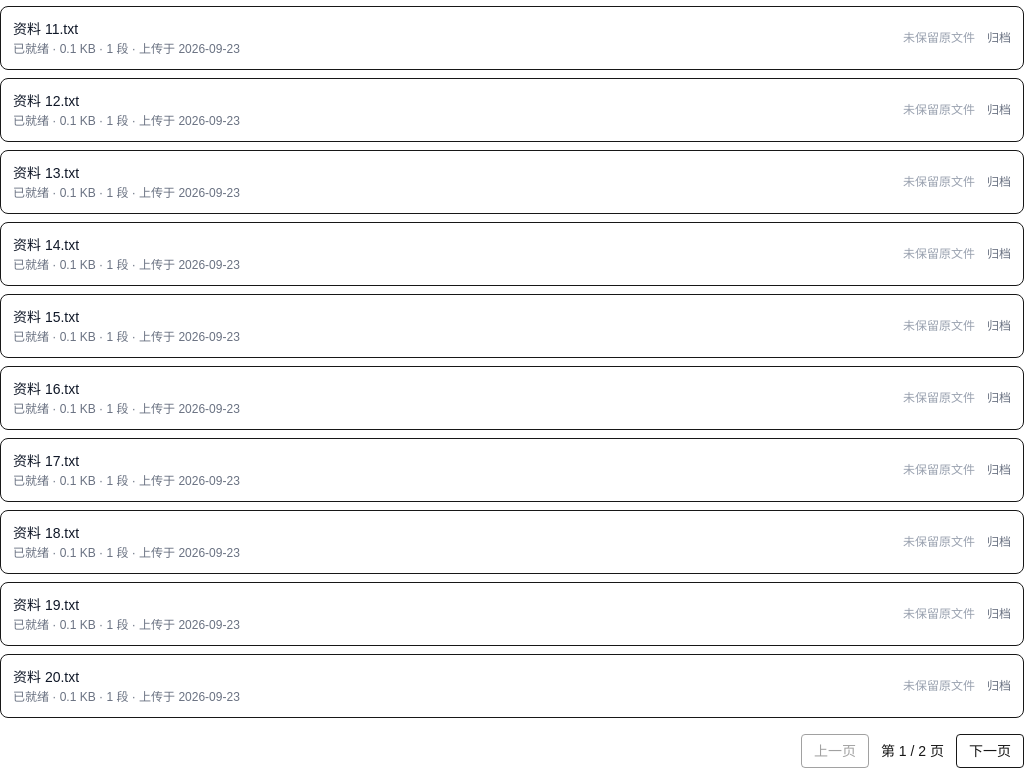
Scenario: 知识库列表 › 超过一页时可以翻页
(page scrolled)
Expected: the text "资料 21.txt" is not shown
Click the button "下一页": (990, 751) [956, 734, 1024, 767]
(page scrolled)
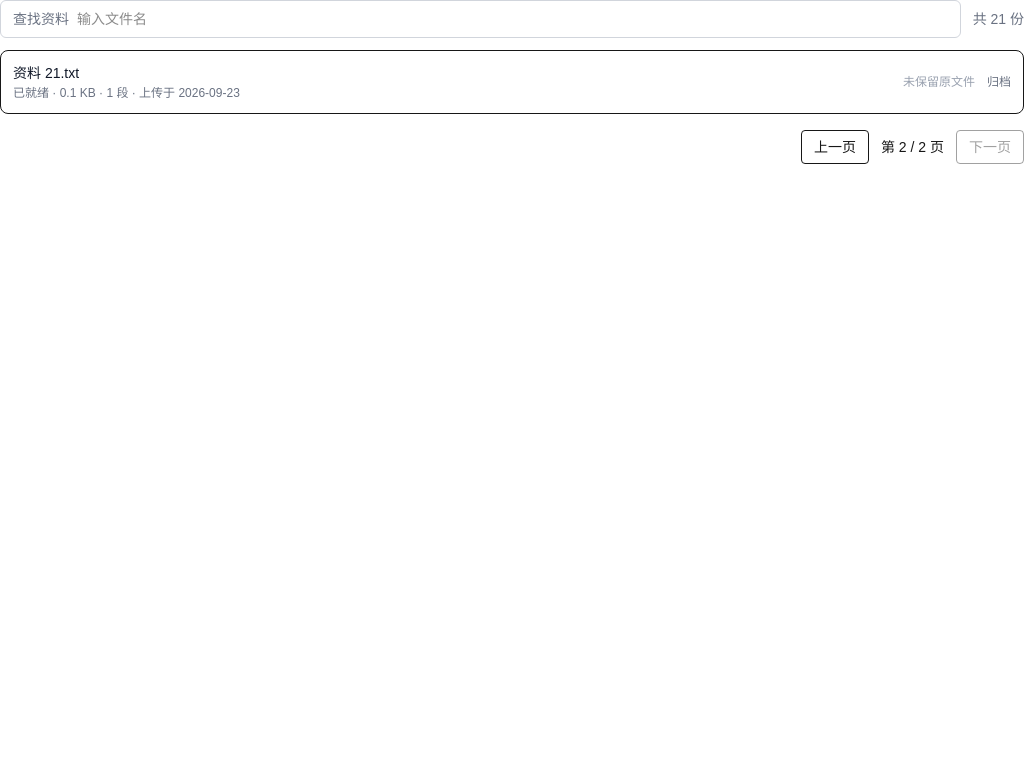
Expected: the text "资料 21.txt" is shown, [13, 65, 79, 81]
Expected: the text "第 2 / 2 页" is shown, [881, 137, 944, 157]
